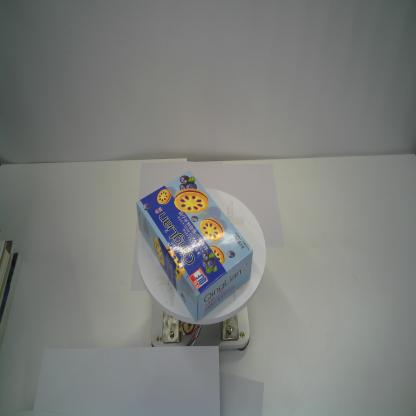Dessert: (136, 170, 253, 323)
